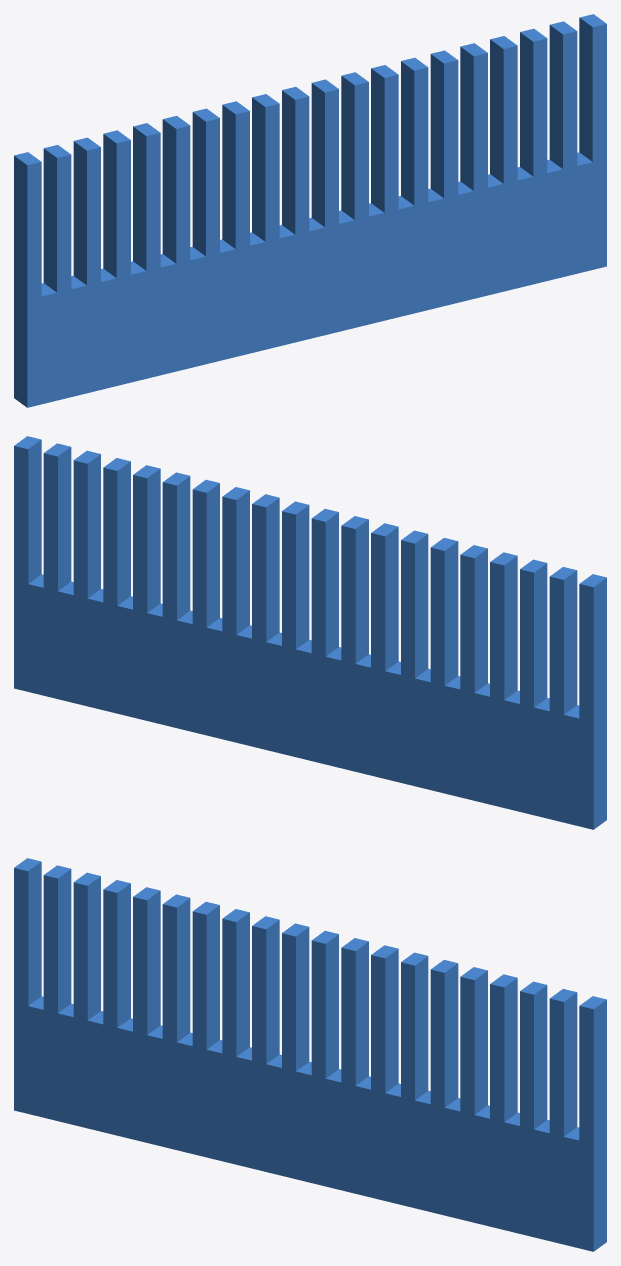
The model's file is comb.glb.
3 renders of one model, top to bottom at view 1: azimuth 30°, elevation 25°; view 2: azimuth 150°, elevation 25°; view 3: azimuth 330°, elevation 25°, orthographic.
Visible parts, largest first — view 1: comb; view 2: comb; view 3: comb.
Part boxes in pixels (x1,y1,x2,y2): comb: (14,14,606,407); comb: (14,436,606,829); comb: (14,858,606,1251).
Bounding box in the file's own units: 0.09 × 0.036 × 0.0036.
